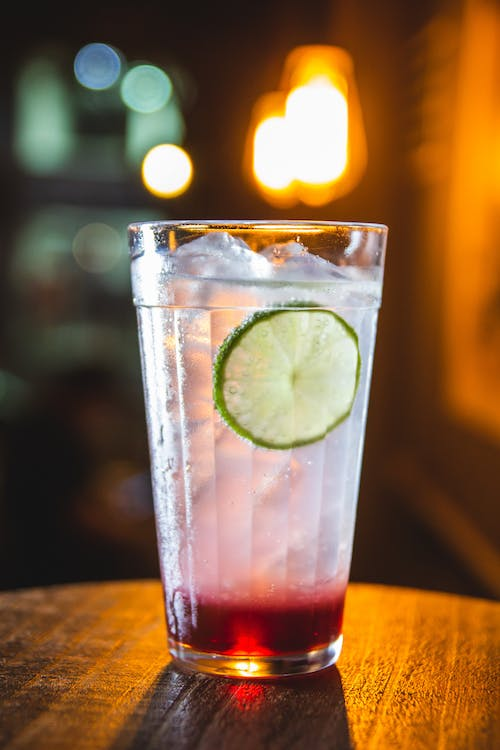alcohol: (124, 218, 391, 679)
